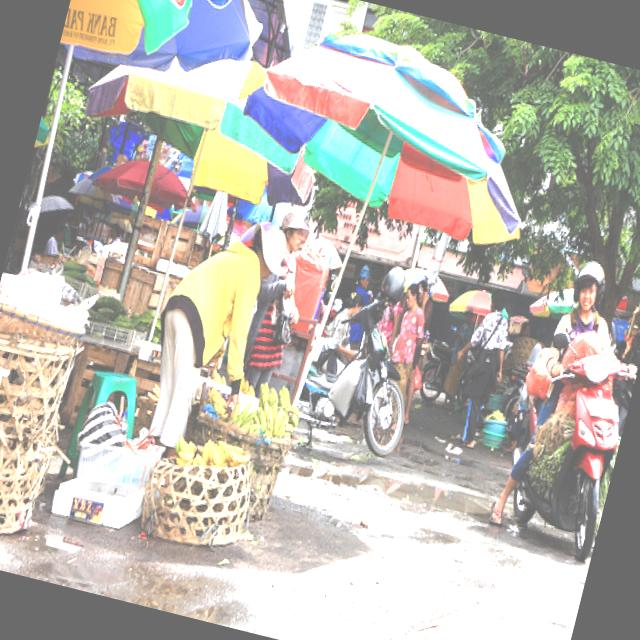Vehicle: (483, 326, 640, 563), (290, 276, 432, 462), (414, 337, 476, 409), (600, 379, 634, 482)
